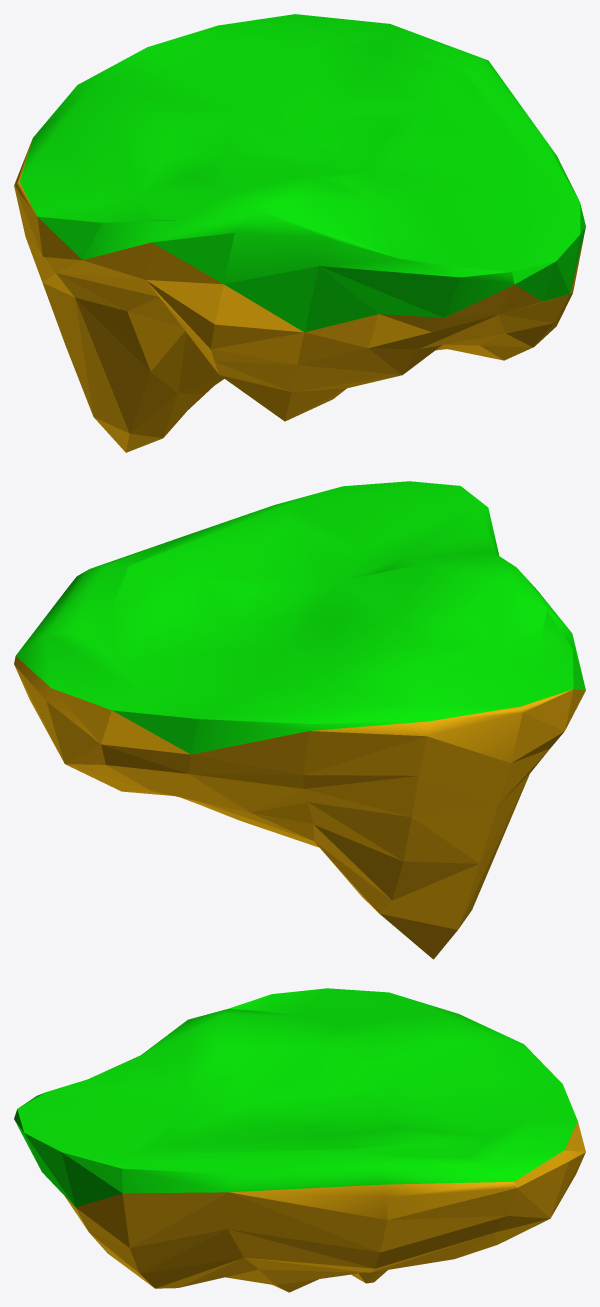
Rendered from LandChunkB.fbx.
The picture shows the model from 3 angles, top to bottom: view 1: azimuth 30°, elevation 25°; view 2: azimuth 150°, elevation 25°; view 3: azimuth 270°, elevation 25°; orthographic projection. The views are drawn at different scales.
Visible parts, largest first — view 1: LandChunkB; view 2: LandChunkB; view 3: LandChunkB.
Part boxes in pixels (box(x1,y1,x2,y2)): LandChunkB: box(14, 14, 585, 452); LandChunkB: box(14, 481, 585, 959); LandChunkB: box(14, 988, 585, 1292).
Bounding box in the file's own units: 90.42 × 56.95 × 107.
